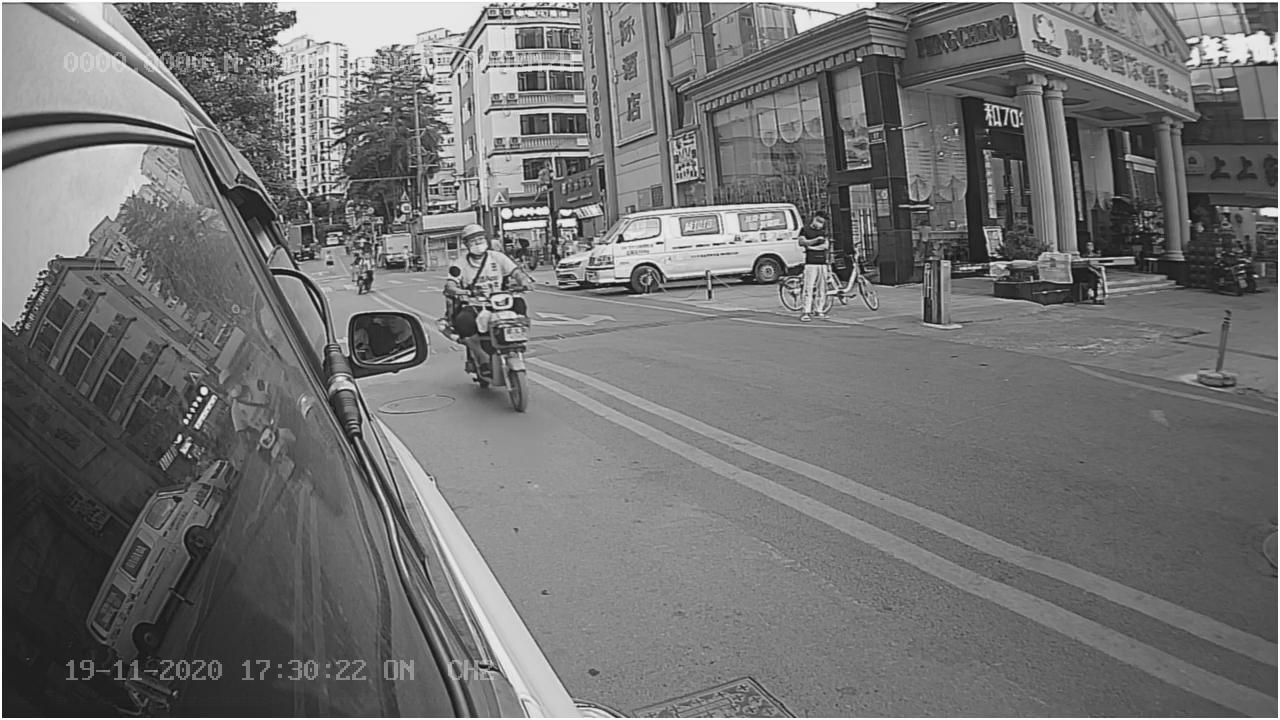person: (442, 225, 531, 296)
